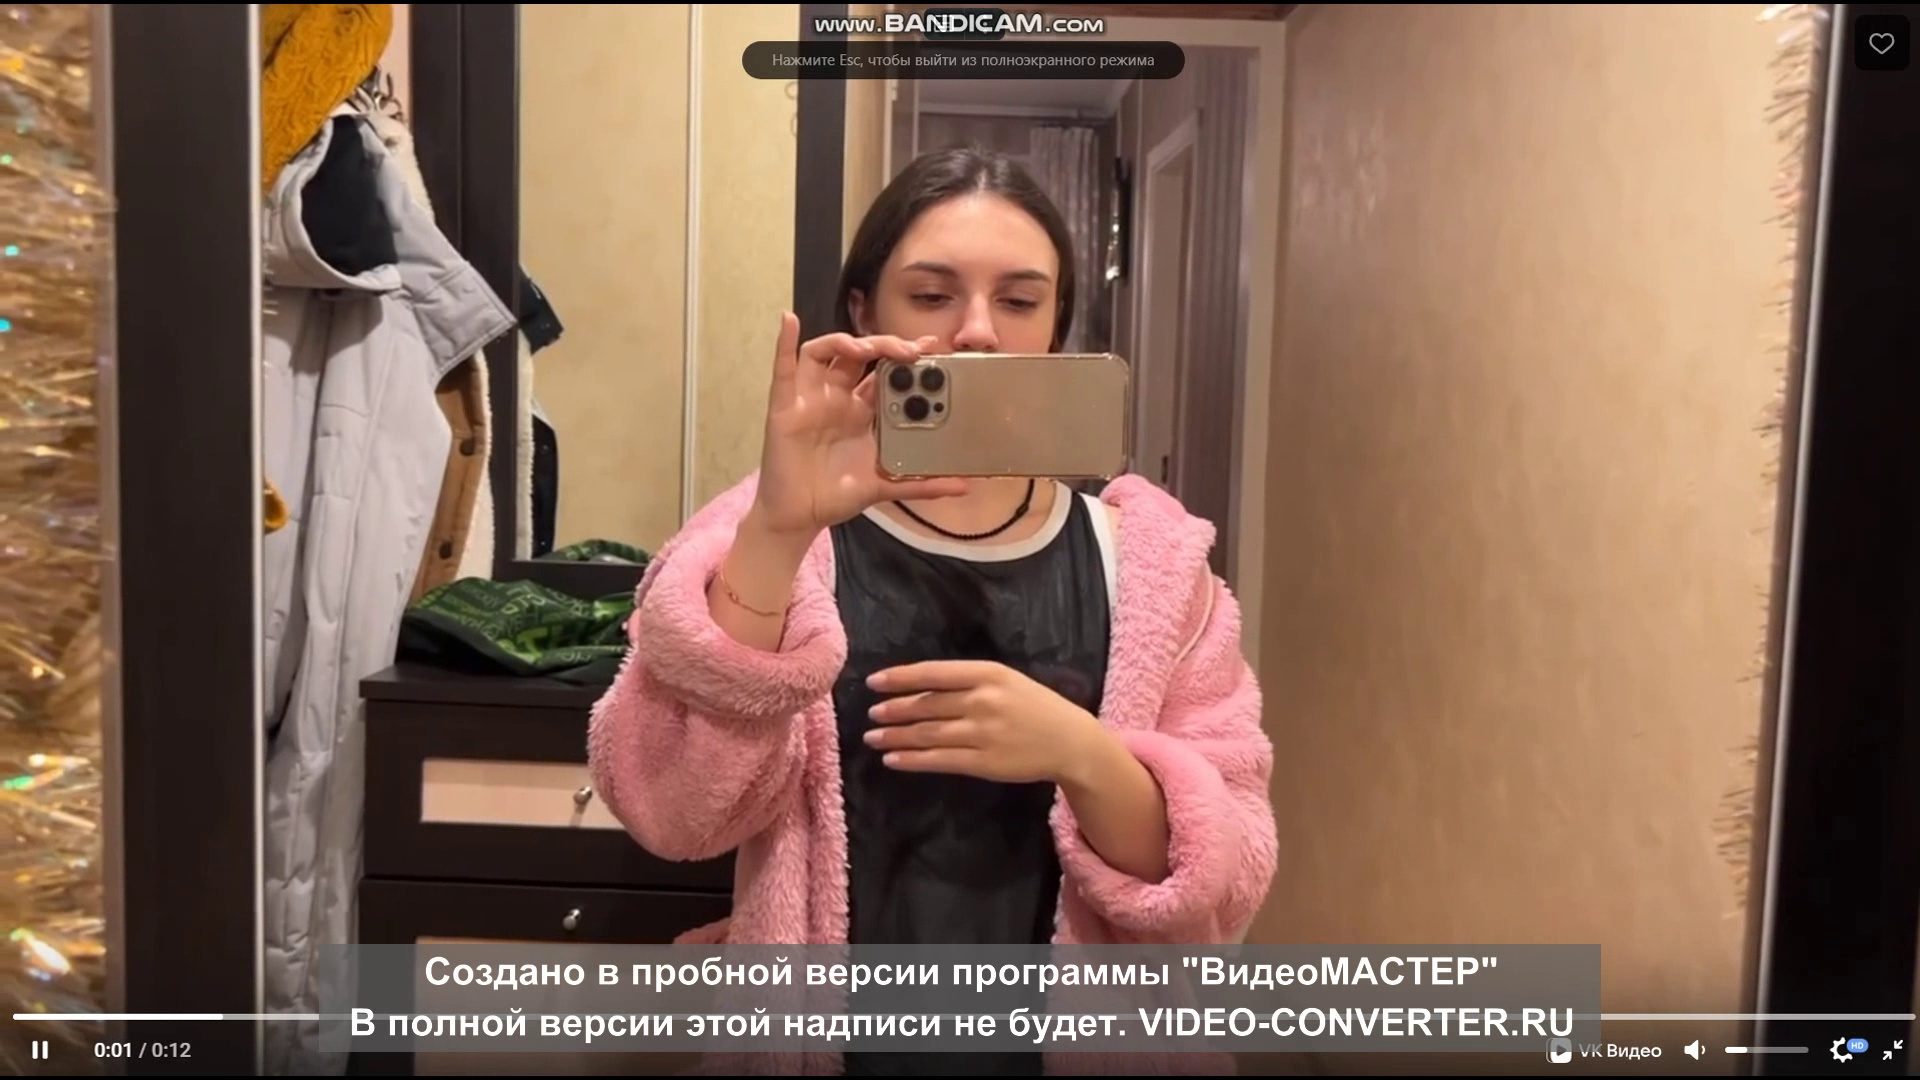Кисть: (861, 658, 1069, 782)
